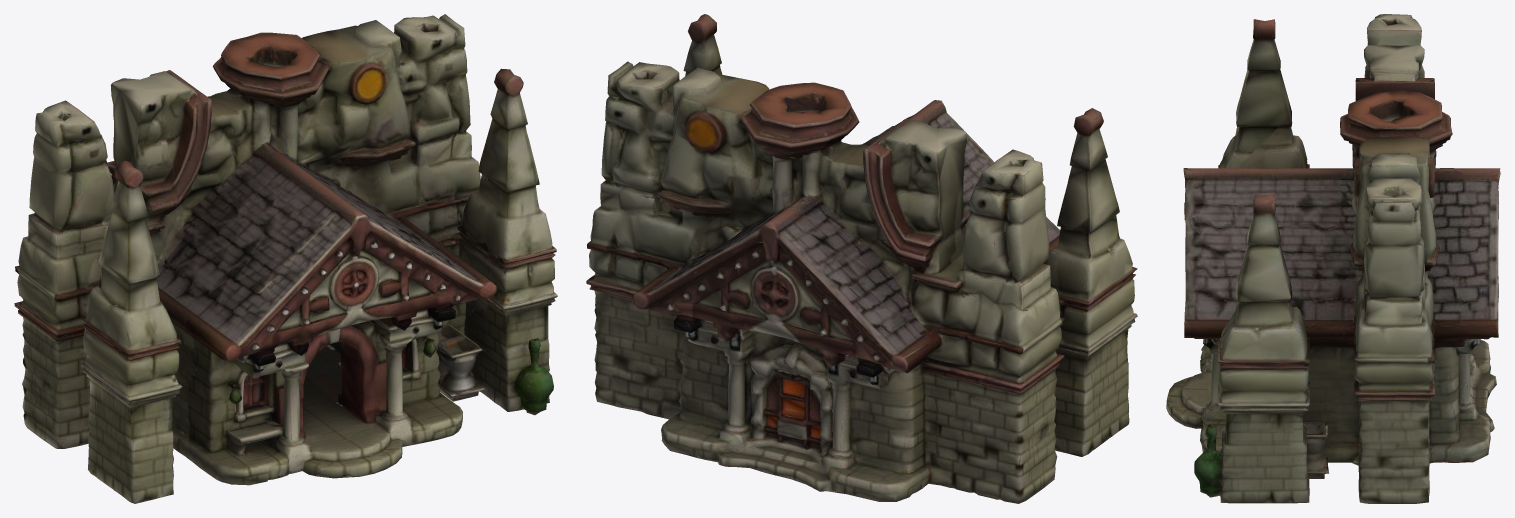
File: Dwarven Building #9_final.glb
The picture shows the model from 3 angles, left to right: view 1: azimuth 30°, elevation 25°; view 2: azimuth 150°, elevation 25°; view 3: azimuth 270°, elevation 25°; orthographic projection. The views are drawn at different scales.
Size of the model in its own units: 1.91 by 1.39 by 1.37.
Materials: 1 (1 with a texture image).
